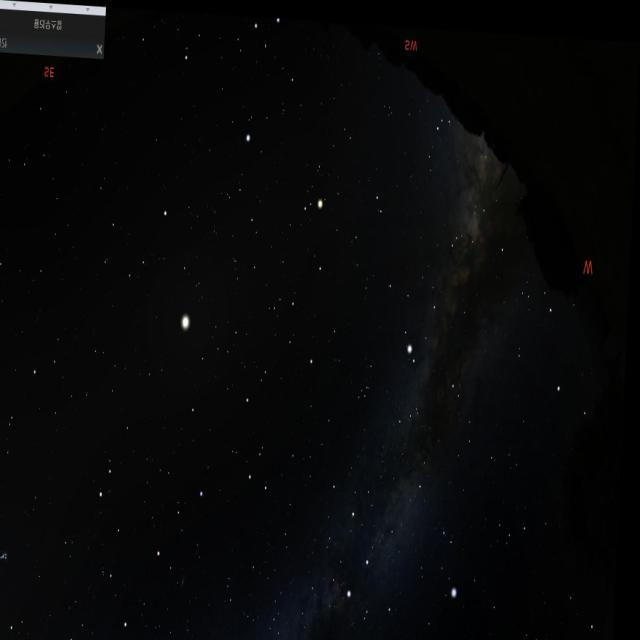aquila: (384, 215, 478, 366)
cygnus: (346, 466, 432, 620)
lyra: (430, 513, 464, 598)
pleiades: (0, 535, 21, 571)
